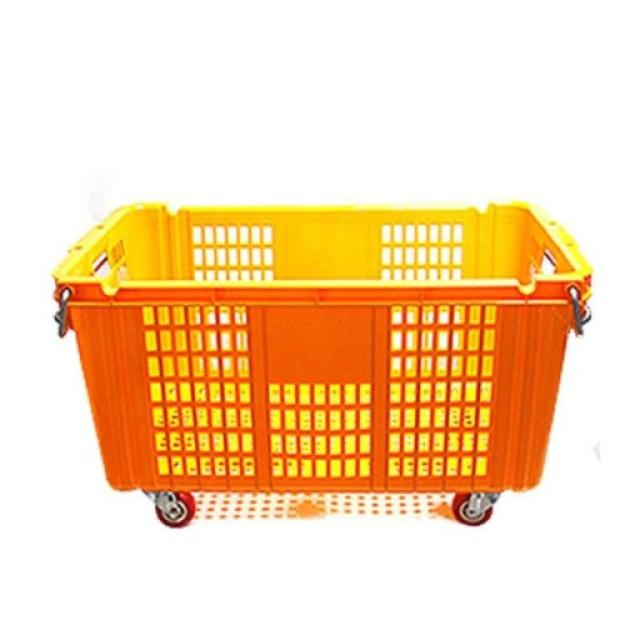basket: (55, 202, 595, 529)
